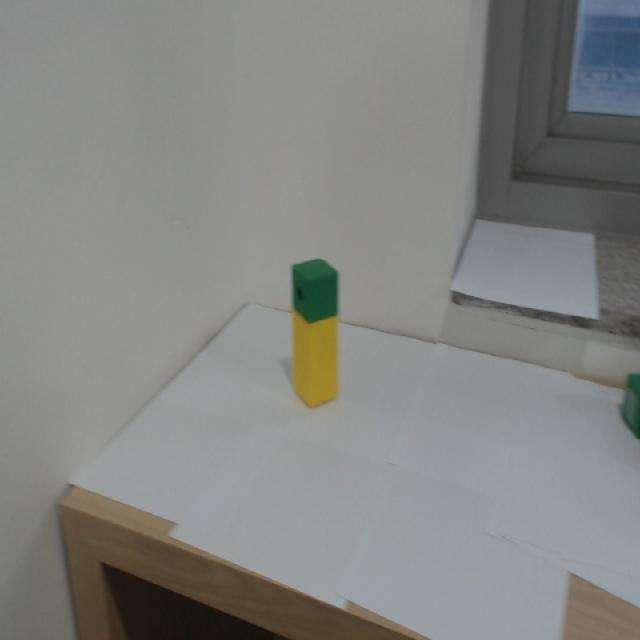cube: (290, 256, 340, 325)
